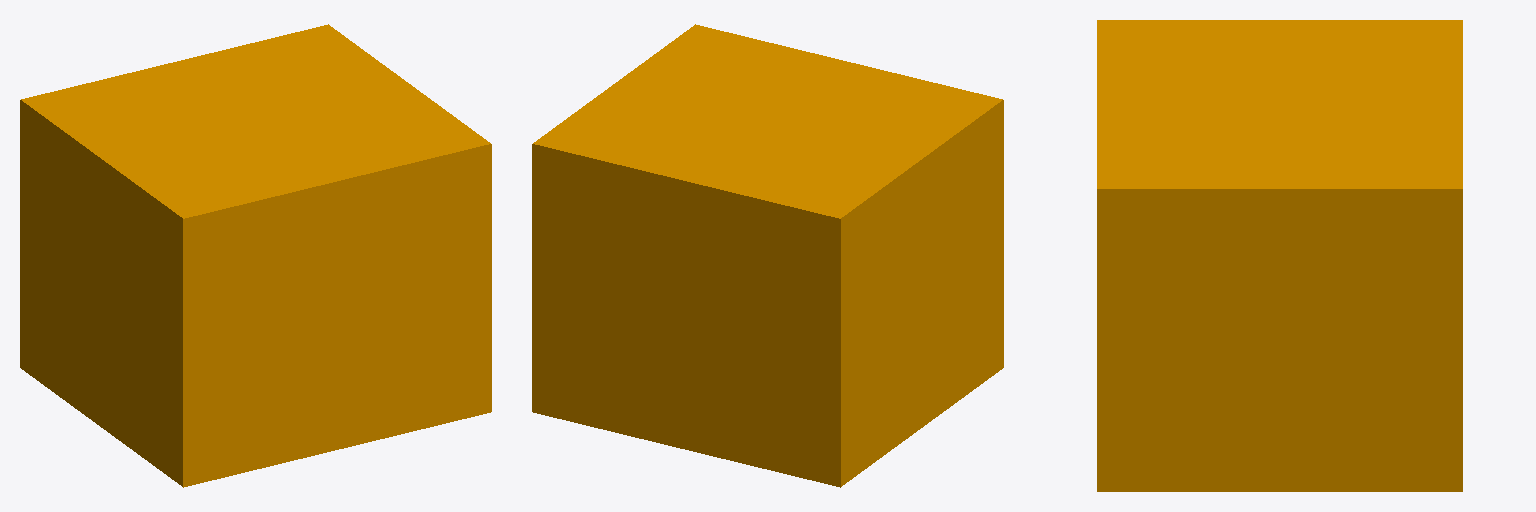
robot.urdf — object:
<robot name="object">
  <link name="object">
    <visual>
      <origin xyz="0 0 0" />
      <geometry>
        <box size="0.09600000000000003 0.08800000000000002 0.08" />
      </geometry>
    </visual>

    <collision>
      <origin xyz="0 0 0" />
      <geometry>
        <box size="0.09600000000000003 0.08800000000000002 0.08" />
      </geometry>
    </collision>

    <inertial>
      <mass value="0.05" />
      <inertia ixx="0.0001" ixy="0.0" ixz="0.0" iyy="0.0001" iyz="0.0" izz="0.0001" />
    </inertial>
  </link>
</robot>

--- Facts derived from the render (not from the file) ---
Views: 3 orthographic renders of the robot side by side, from view 1: azimuth 30°, elevation 25°; view 2: azimuth 150°, elevation 25°; view 3: azimuth 270°, elevation 25°.
Robot: object — 1 links, 0 joints (none); root link object; default pose: every joint at zero.
Links seen in each view (by area): view 1: object; view 2: object; view 3: object.
Boxes of the visible links, x1=… form: object: x1=20, y1=24, x2=491, y2=487; object: x1=532, y1=24, x2=1003, y2=487; object: x1=1097, y1=20, x2=1462, y2=491.
Size in the robot's own frame: 0.096 by 0.088 by 0.08 metres.
Geometry: primitives only (box / cylinder / sphere), no mesh files.